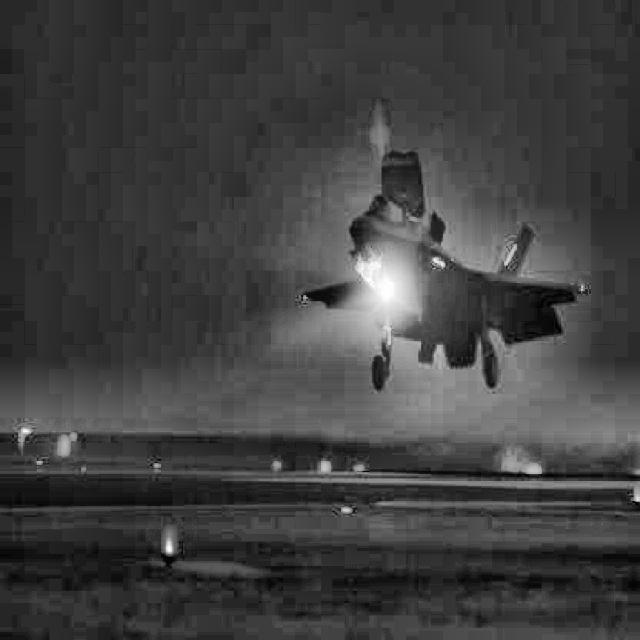F35: (298, 151, 592, 391)
